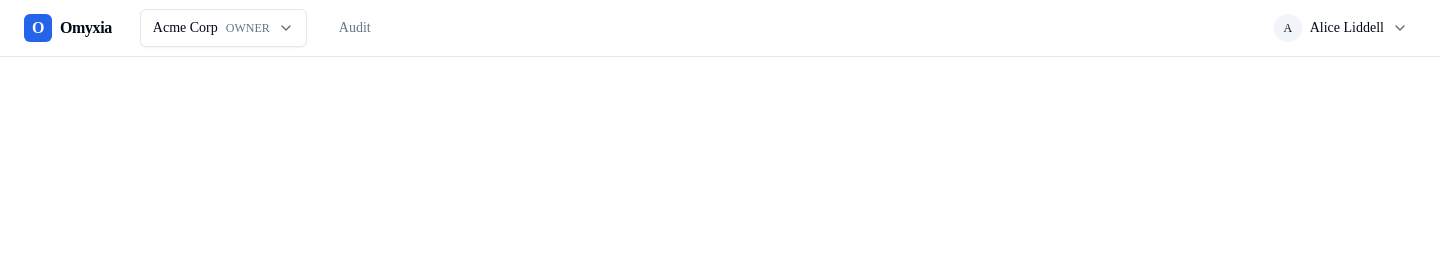
Test: Topbar › opens the user menu and shows the user details and account/settings links
Click the button with test id "topbar-user-trigger" at (1341, 28), box [1266, 8, 1416, 48]
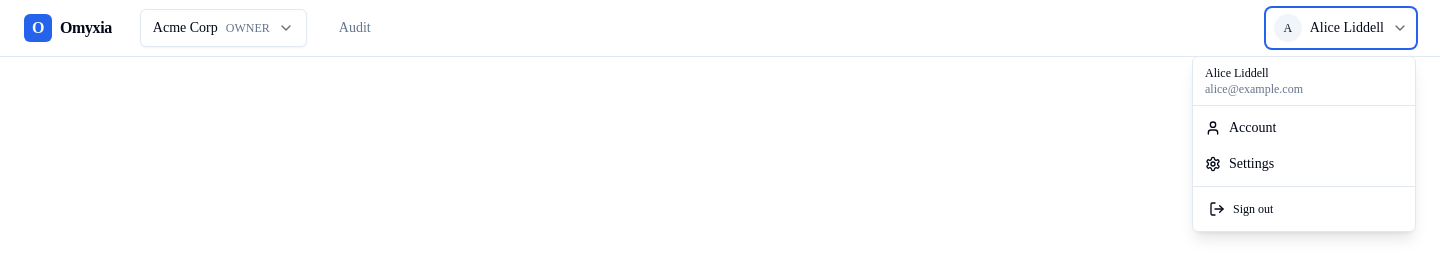
Expected: the text with test id "topbar-user-name" shows "Alice", [1205, 66, 1269, 80]
